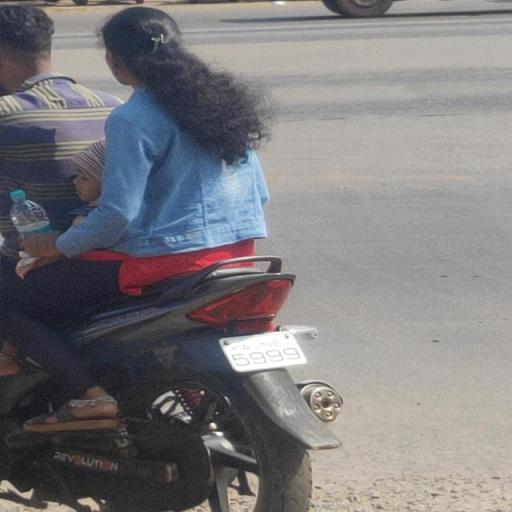bike: (2, 1, 348, 512)
numberplate: (215, 322, 306, 376)
withouthelmet: (106, 8, 173, 86), (2, 4, 48, 84)
